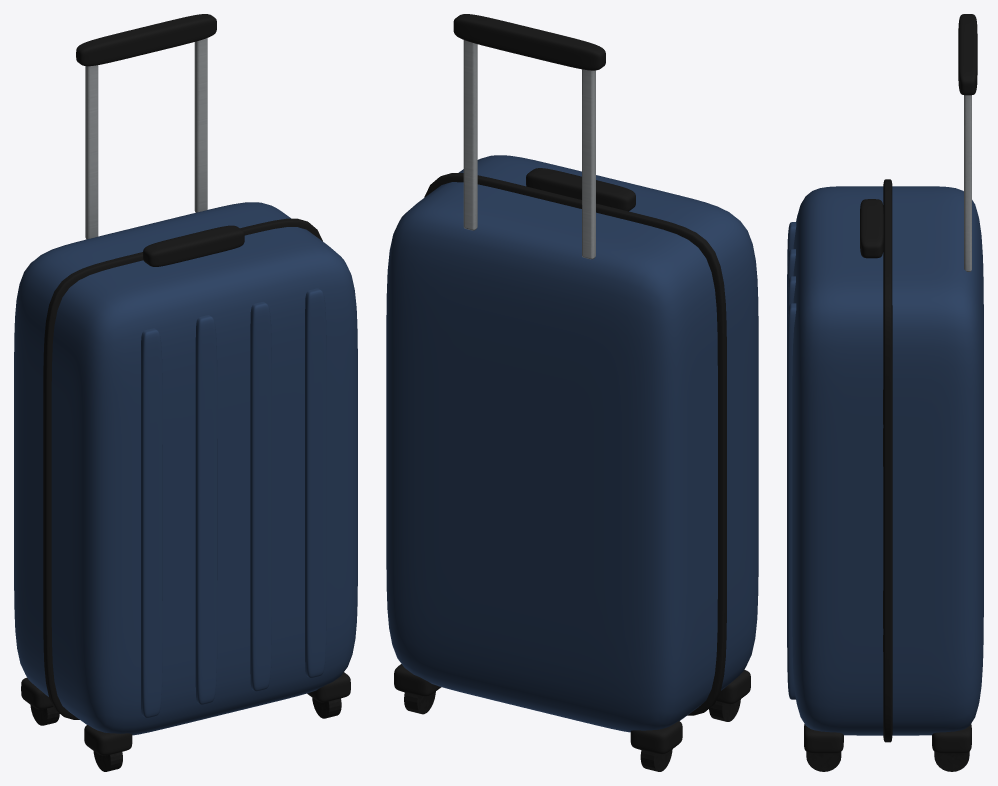
Rendered from hard-navy.glb.
3 renders of one model, left to right at view 1: azimuth 30°, elevation 25°; view 2: azimuth 150°, elevation 25°; view 3: azimuth 270°, elevation 25°, orthographic. The views are drawn at different scales.
Parts seen in each view (by area): view 1: paint_primary_shell, trim_black, zip_black, aluminium, rubber; view 2: paint_primary_shell, trim_black, zip_black, aluminium, rubber; view 3: paint_primary_shell, zip_black, trim_black, aluminium, rubber.
Boxes of the visible parts, x1,y1,x2,y2 form: paint_primary_shell: (14,202,357,735); trim_black: (21,14,350,755); zip_black: (43,218,322,719); aluminium: (85,38,207,239); rubber: (30,698,341,771); paint_primary_shell: (386,155,758,732); trim_black: (394,14,750,754); zip_black: (424,173,726,715); aluminium: (463,40,595,259); rubber: (404,691,740,771); paint_primary_shell: (787,186,983,735); zip_black: (883,179,892,742); trim_black: (804,14,977,753); aluminium: (964,95,971,271); rubber: (806,751,969,771).
Size of the model in its own units: 0.414 by 0.925 by 0.246.
Materials: 5 (2 with a texture image).
